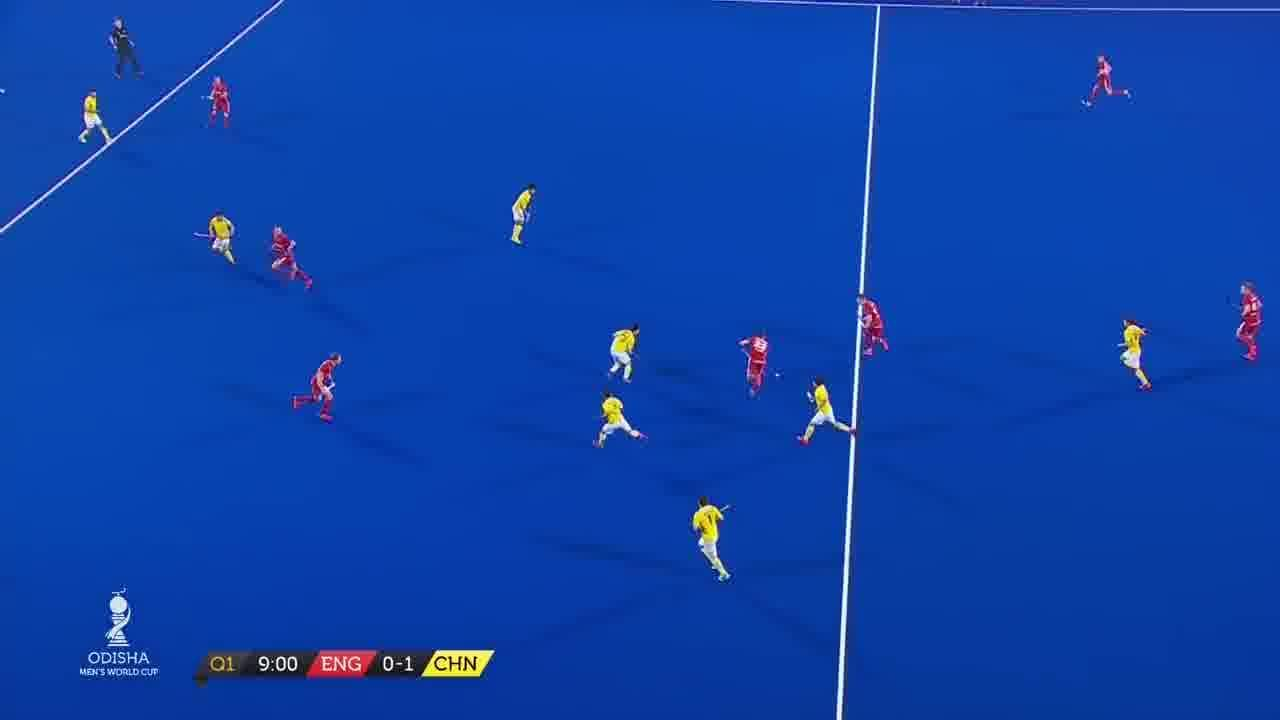ball: (764, 360, 790, 391)
